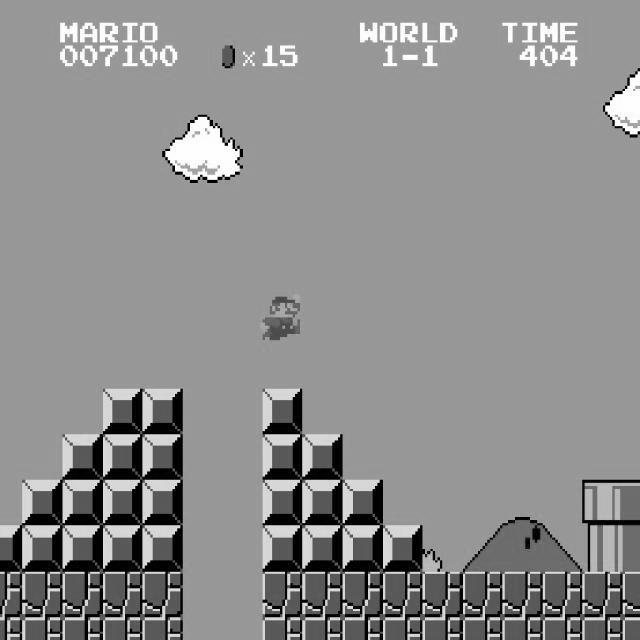11- little_mario: (258, 292, 300, 341)
14- pipe: (582, 526, 623, 572), (622, 525, 640, 571)
15- pipe_head: (582, 480, 623, 526), (622, 480, 640, 525)
17- undestructible_block: (22, 572, 63, 618), (62, 572, 103, 618), (102, 572, 143, 618), (142, 572, 183, 618), (262, 572, 303, 618), (302, 572, 343, 618), (342, 572, 383, 618), (382, 572, 423, 618), (422, 572, 463, 618), (462, 572, 503, 618), (502, 572, 543, 618), (542, 572, 583, 618), (582, 572, 623, 618), (0, 572, 22, 618), (22, 617, 63, 640), (62, 617, 103, 640), (102, 617, 143, 640), (142, 617, 183, 640), (262, 617, 303, 640), (302, 617, 343, 640), (342, 617, 383, 640), (382, 617, 423, 640), (422, 617, 463, 640), (462, 617, 503, 640), (502, 617, 543, 640), (542, 617, 583, 640), (582, 617, 623, 640), (622, 571, 640, 617), (0, 617, 22, 640), (622, 617, 640, 639)
9- hard_block: (22, 480, 63, 526), (22, 526, 63, 572), (62, 434, 103, 480), (62, 480, 103, 526), (62, 526, 103, 572), (102, 388, 143, 434), (102, 434, 143, 480), (102, 480, 143, 526), (102, 526, 143, 572), (142, 388, 183, 434), (142, 434, 183, 480), (142, 480, 183, 526), (142, 526, 183, 572), (262, 388, 303, 434), (262, 434, 303, 480), (262, 480, 303, 526), (262, 526, 303, 572), (302, 434, 343, 480), (302, 480, 343, 526), (302, 526, 343, 572), (342, 480, 383, 526), (342, 526, 383, 572), (382, 526, 423, 572), (0, 526, 22, 572)
